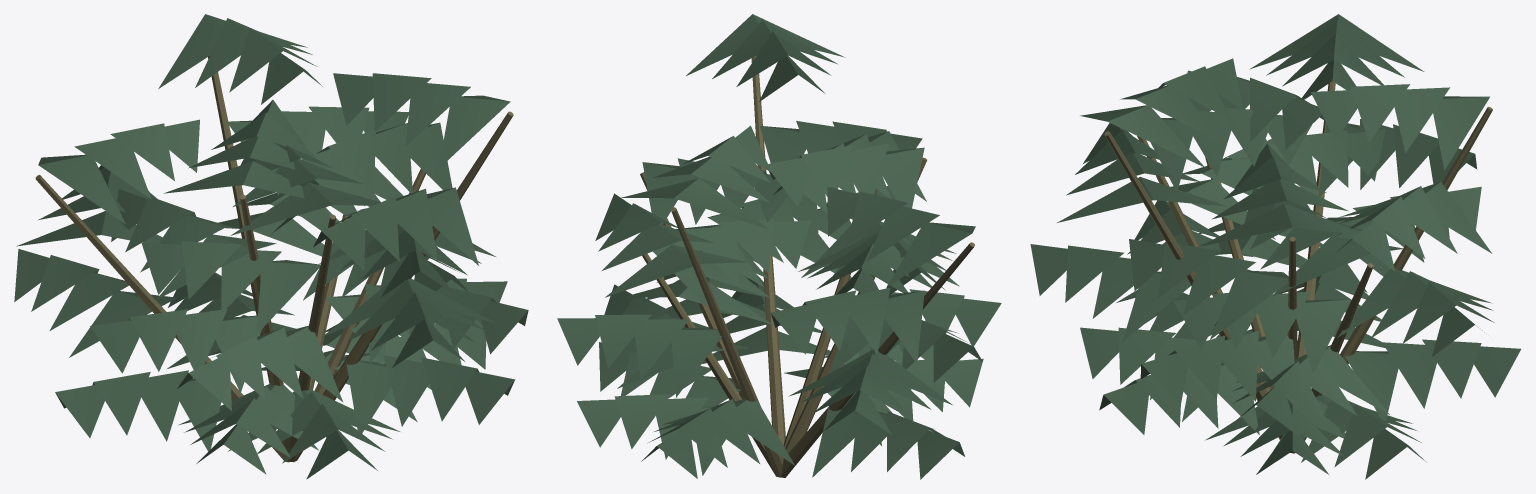
The model's file is taiga-juniper.glb.
3 renders of one model, left to right at view 1: azimuth 30°, elevation 25°; view 2: azimuth 150°, elevation 25°; view 3: azimuth 270°, elevation 25°, orthographic. The views are drawn at different scales.
Visible parts, largest first — view 1: Можжевельник; view 2: Можжевельник; view 3: Можжевельник.
Boxes of the visible parts, x1=… form: Можжевельник: x1=14, y1=14, x2=528, y2=479; Можжевельник: x1=557, y1=14, x2=1001, y2=479; Можжевельник: x1=1030, y1=14, x2=1520, y2=479.
Size of the model in its own units: 1.67 by 1.53 by 1.69.
